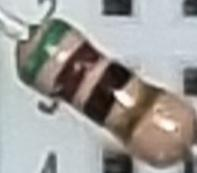Black: (79, 58, 137, 127)
Brown: (43, 37, 107, 103)
Green: (14, 15, 75, 88)
Side-Gold: (110, 83, 168, 149)
